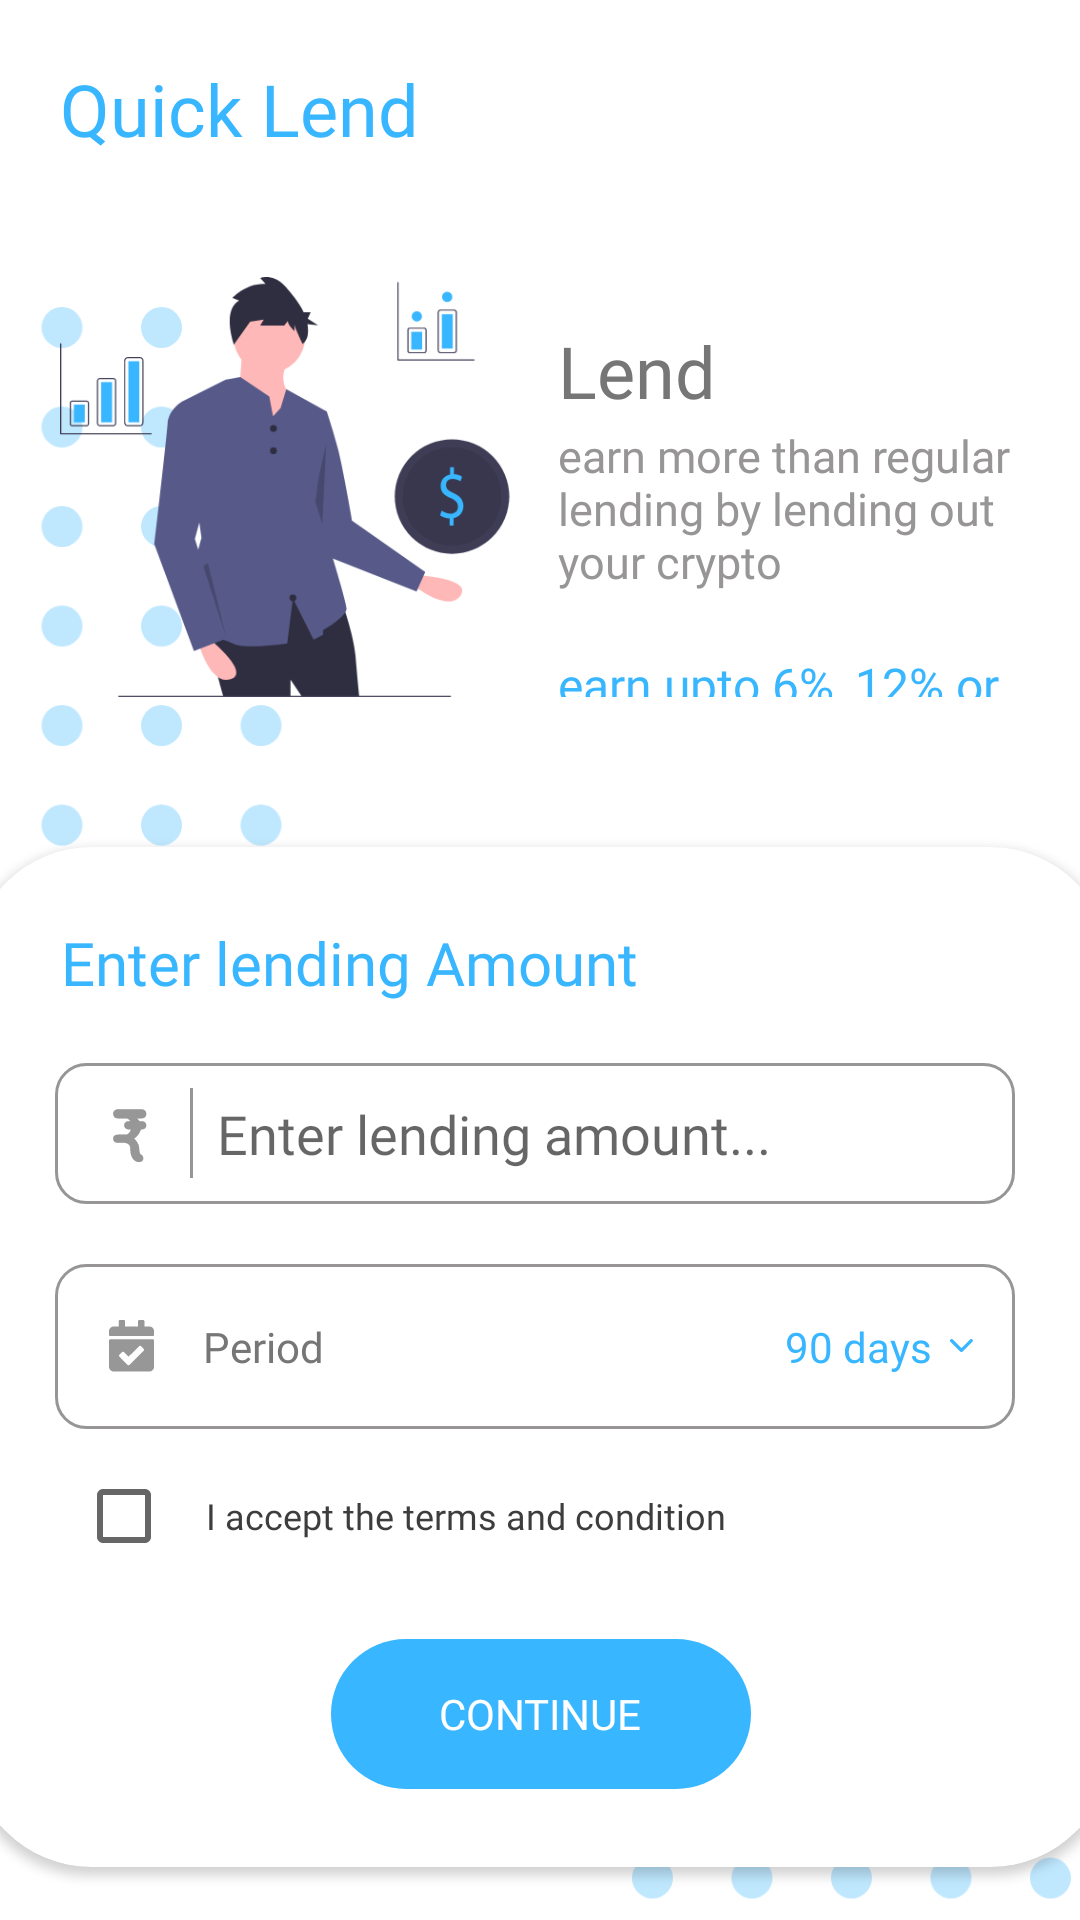

Named icons in this screenshot (1080px×1920px) and their bounding boxes, (x1, y1, x2, y2):
calender check: (109, 1320, 154, 1372)
rupee: (113, 1109, 147, 1162)
